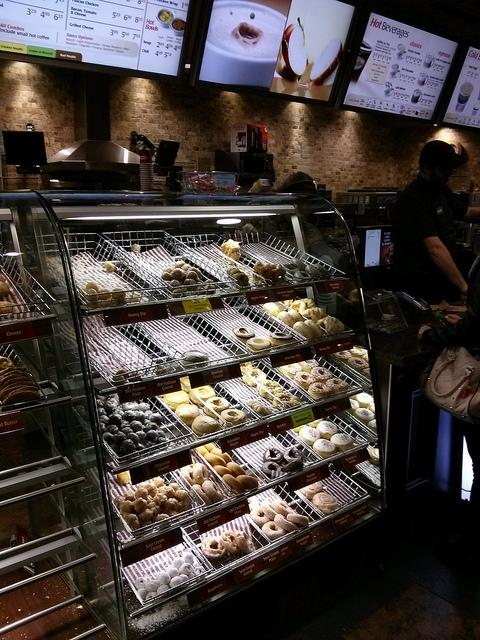apple: (310, 36, 343, 84), (282, 18, 307, 76)
